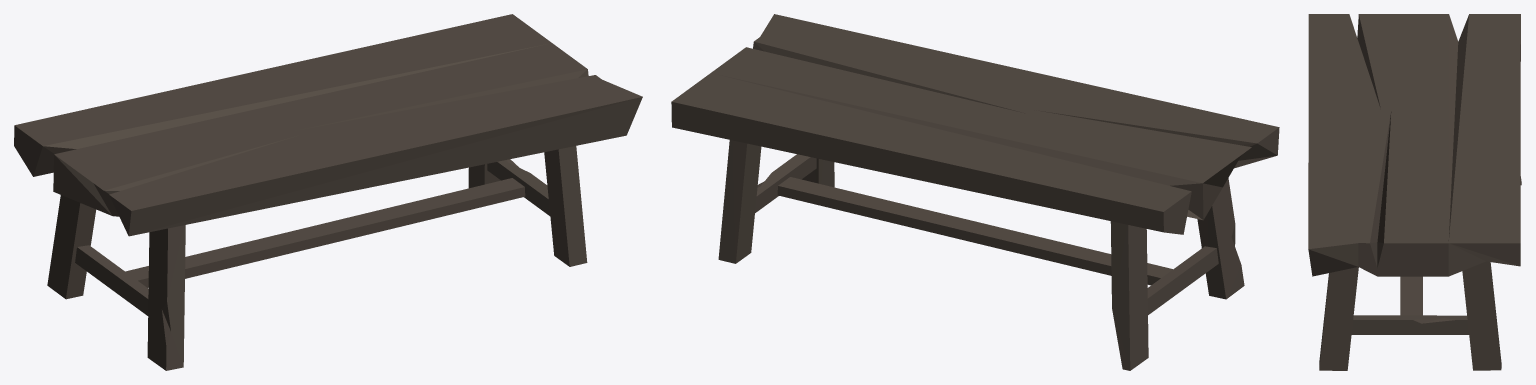
Rendered from Table_Rectangular.fbx.
3 renders of one model, left to right at view 1: azimuth 30°, elevation 25°; view 2: azimuth 150°, elevation 25°; view 3: azimuth 270°, elevation 25°, orthographic. The views are drawn at different scales.
Parts seen in each view (by area): view 1: Table_Rectangular; view 2: Table_Rectangular; view 3: Table_Rectangular.
Boxes of the visible parts, <box> form: Table_Rectangular: <box>14,14,642,370</box>; Table_Rectangular: <box>671,14,1279,370</box>; Table_Rectangular: <box>1308,14,1521,370</box>.
Size of the model in its own units: 707 by 224 by 282.
